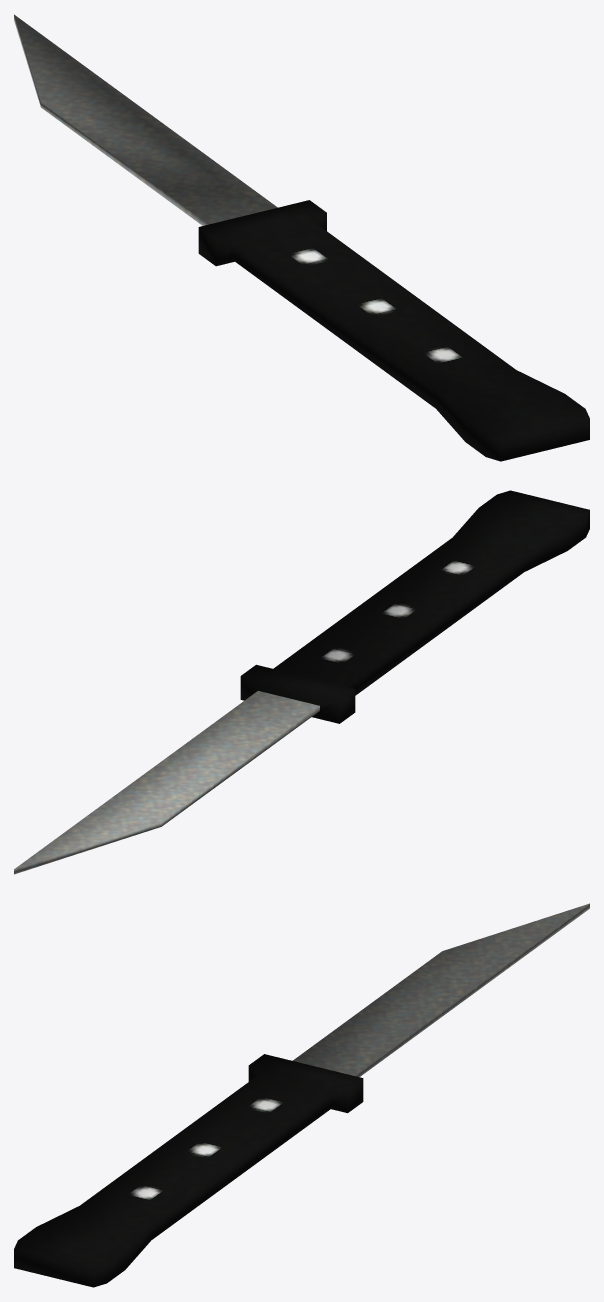
File: knife.obj
The picture shows the model from 3 angles, top to bottom: view 1: azimuth 30°, elevation 25°; view 2: azimuth 150°, elevation 25°; view 3: azimuth 330°, elevation 25°; orthographic projection. The views are drawn at different scales.
Parts seen in each view (by area): view 1: knife; view 2: knife; view 3: knife.
Boxes of the visible parts, left/top/right/bottom form: knife: left=14, top=14, right=589, bottom=461; knife: left=14, top=490, right=589, bottom=874; knife: left=14, top=903, right=589, bottom=1287.
Size of the model in its own units: 0.0255 by 0.00582 by 0.2249.
